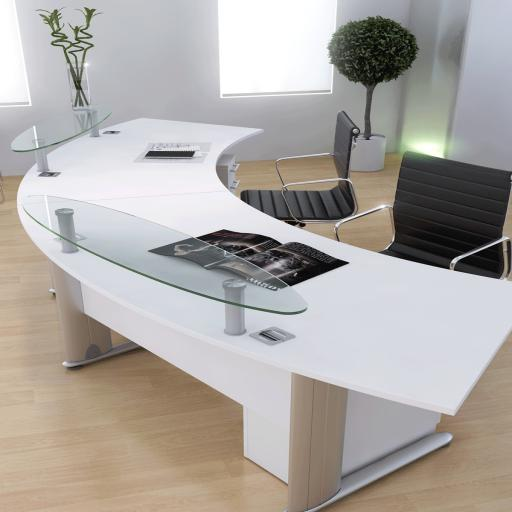chair: (334, 151, 512, 279), (240, 110, 360, 228)
desk: (9, 102, 512, 511)
wall: (0, 0, 412, 176), (396, 0, 512, 170)
